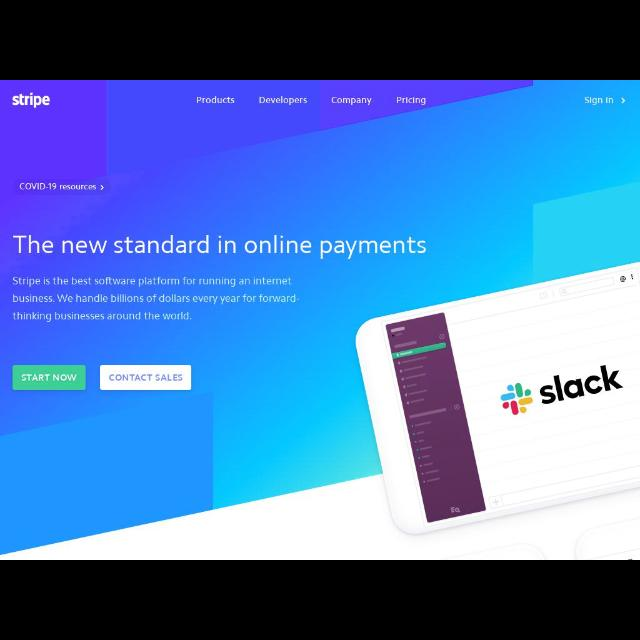backgroundimage: (6, 83, 640, 553)
icon: (100, 182, 106, 190), (620, 97, 626, 103)
image: (331, 267, 639, 553)
text: (10, 276, 298, 322), (15, 232, 429, 260), (11, 90, 51, 110), (331, 94, 373, 108), (194, 94, 236, 106), (395, 94, 431, 108), (259, 96, 307, 104), (586, 95, 614, 104)
textbutton: (102, 367, 190, 388), (15, 178, 109, 196), (14, 367, 86, 389)
toolbar: (3, 84, 634, 116)
